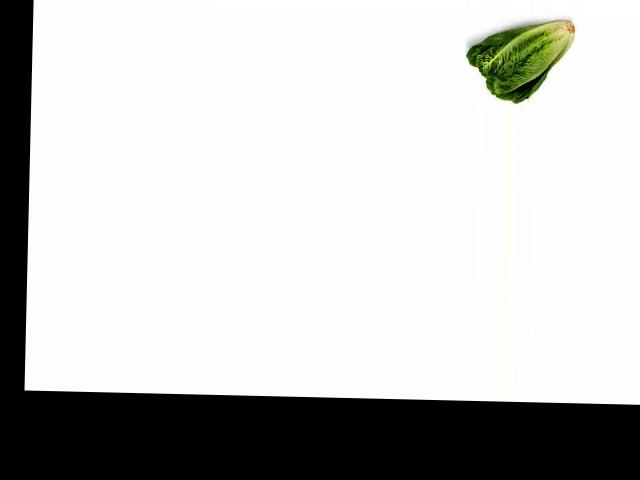lettuce: (466, 14, 582, 103)
